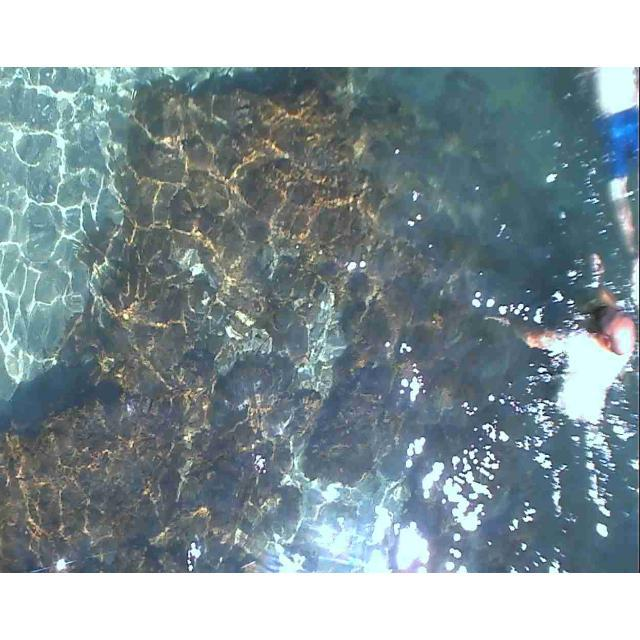human: (525, 288, 627, 419), (586, 67, 625, 283)
